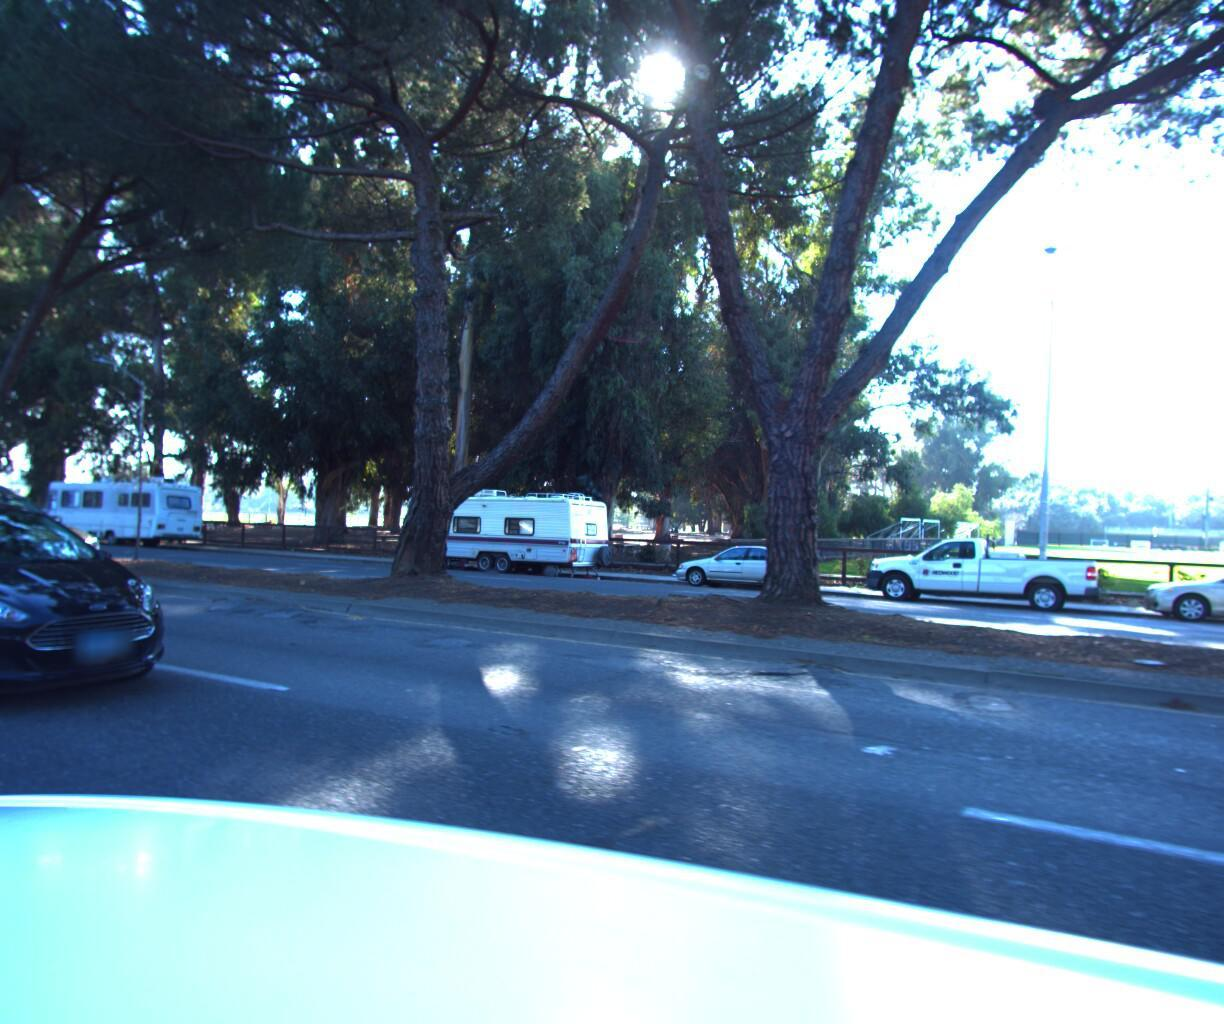car: (0, 483, 209, 731), (849, 530, 1103, 623), (0, 471, 116, 611), (663, 544, 824, 601), (1130, 557, 1224, 647)
other_vehicle: (379, 491, 622, 582), (32, 477, 209, 554)
